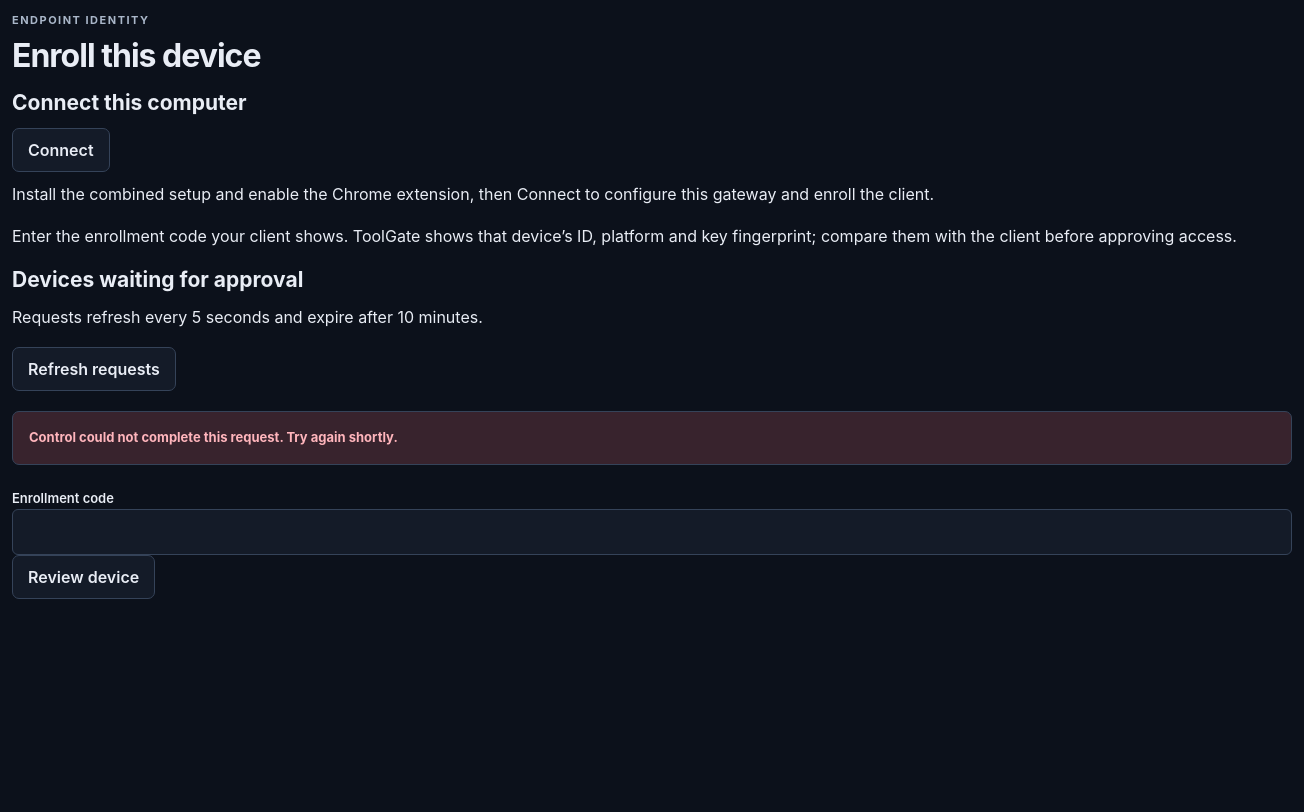
Test: Endpoint enrollment › refreshes requests and clears list failures without approving any device
Expected: the message "Control could not complete this request. Try again shortly." is shown, top-left (12, 412), bottom-right (1292, 465)
Click the button "Refresh requests": (94,370) top-left (12, 348), bottom-right (176, 392)
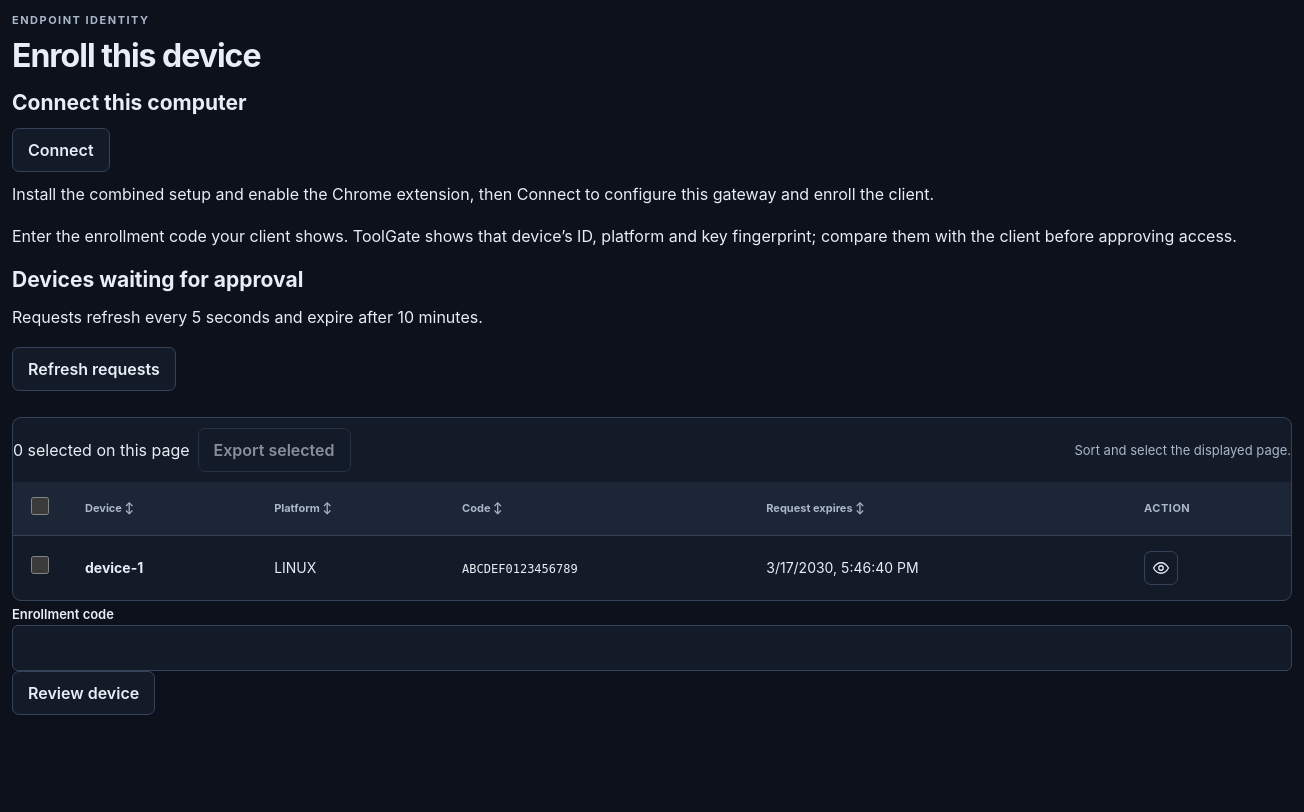
Expected: the button named "Review device-1" is shown, top-left (1144, 551), bottom-right (1178, 585)
Expected: the message "Control could not complete this request. Try again shortly." is gone
